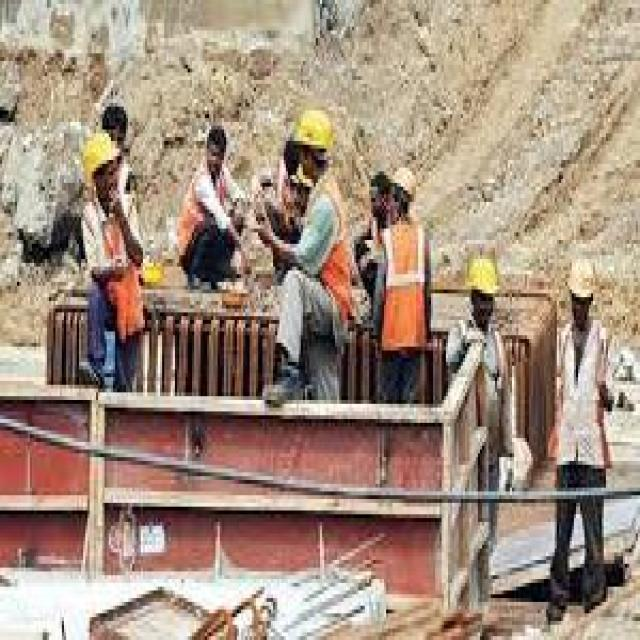Reflective-Jacket: (546, 320, 621, 480), (439, 316, 512, 472), (288, 175, 361, 324), (75, 191, 147, 339), (373, 213, 433, 362), (172, 164, 235, 266)
Safety-Helmet: (280, 92, 344, 172), (459, 236, 512, 316), (367, 149, 424, 217), (75, 122, 128, 190), (561, 244, 604, 316), (194, 110, 237, 164)
